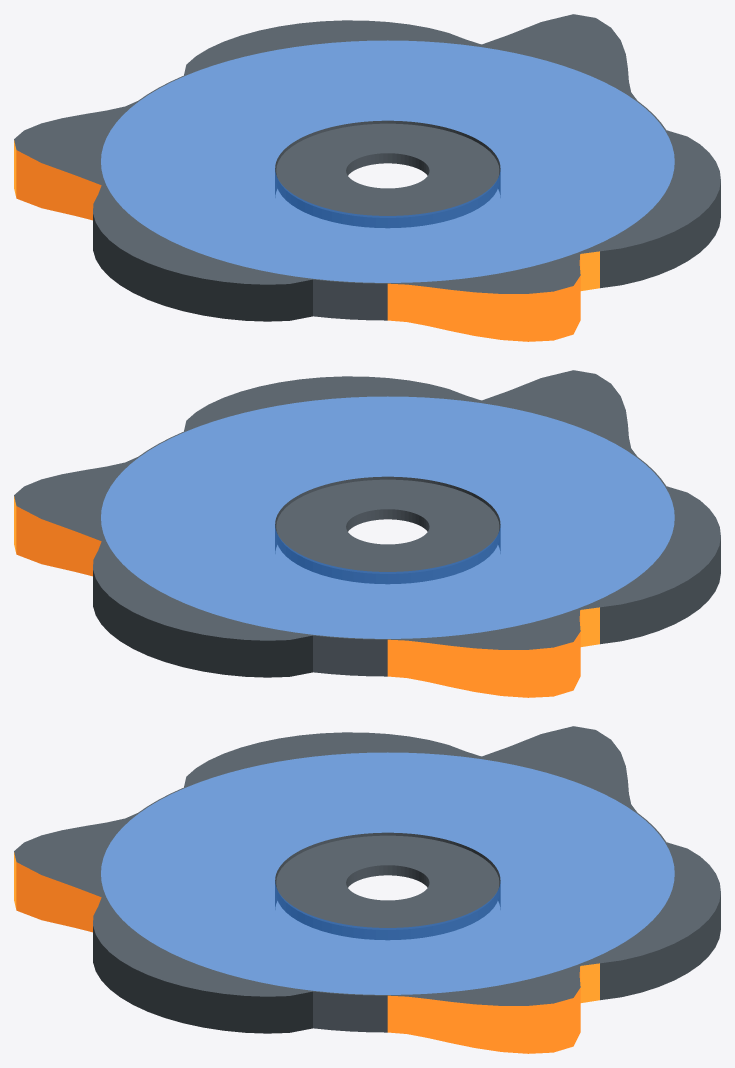
File: blade_dual_comet.glb
The picture shows the model from 3 angles, top to bottom: view 1: azimuth 30°, elevation 25°; view 2: azimuth 150°, elevation 25°; view 3: azimuth 270°, elevation 25°; orthographic projection.
Visible parts, largest first — view 1: GEO_blade_dual_comet_BODY, GEO_blade_dual_comet_NSS_V1_COLLAR; view 2: GEO_blade_dual_comet_BODY, GEO_blade_dual_comet_NSS_V1_COLLAR; view 3: GEO_blade_dual_comet_BODY, GEO_blade_dual_comet_NSS_V1_COLLAR.
Boxes of the visible parts, x1=… form: GEO_blade_dual_comet_BODY: x1=14, y1=14, x2=720, y2=341; GEO_blade_dual_comet_NSS_V1_COLLAR: x1=276, y1=123, x2=499, y2=227; GEO_blade_dual_comet_BODY: x1=14, y1=370, x2=720, y2=697; GEO_blade_dual_comet_NSS_V1_COLLAR: x1=276, y1=479, x2=499, y2=583; GEO_blade_dual_comet_BODY: x1=14, y1=726, x2=720, y2=1053; GEO_blade_dual_comet_NSS_V1_COLLAR: x1=276, y1=835, x2=499, y2=939.
Bounding box in the file's own units: 0.0645 × 0.00519 × 0.0678.
